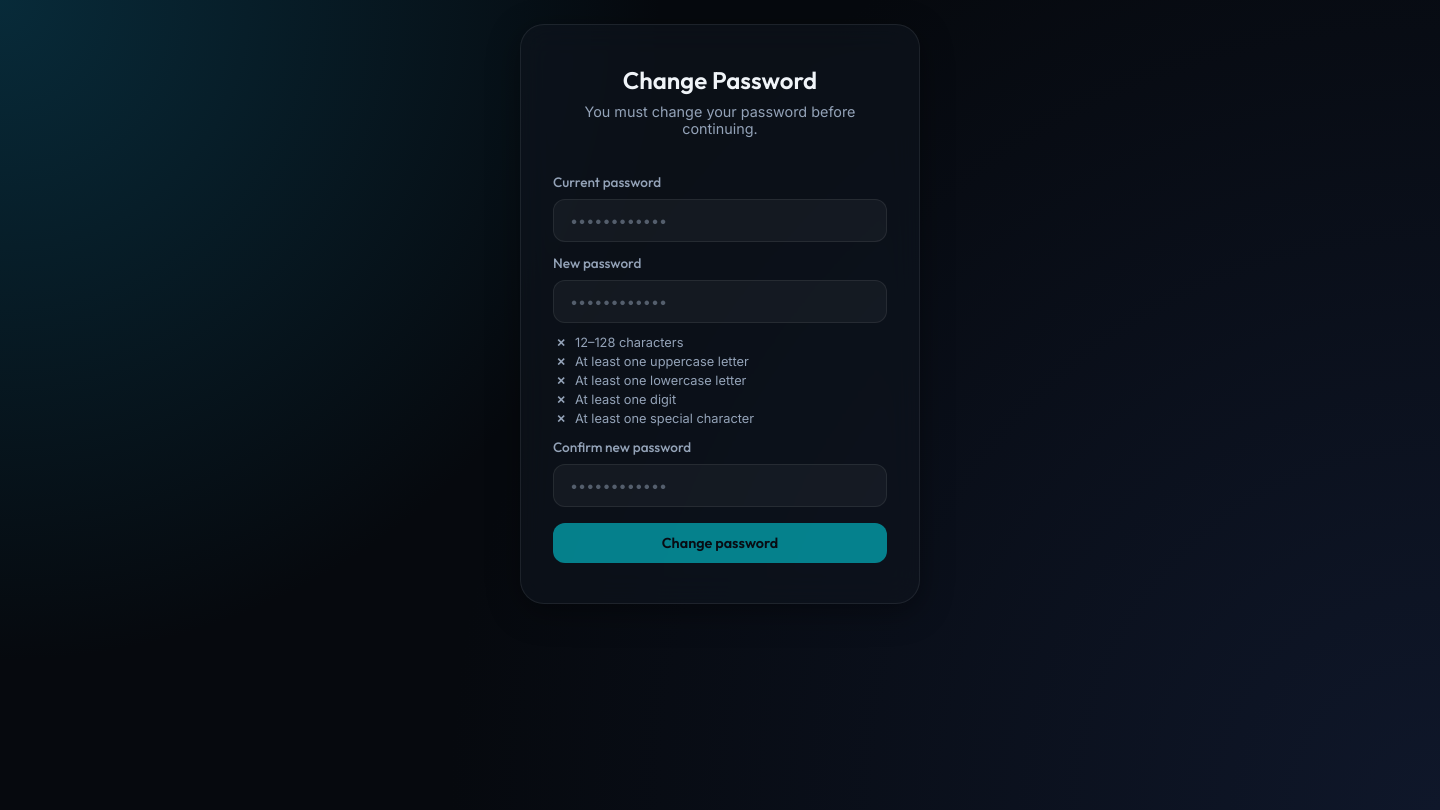
Scenario: PasswordChangePage › shows mismatch message when confirm password differs
Type "Abcdefghijk1!" into the password field labelled "New password".
click(720, 302); type("Abcdefghijk1!")  # box x1=553 y1=280 x2=887 y2=323
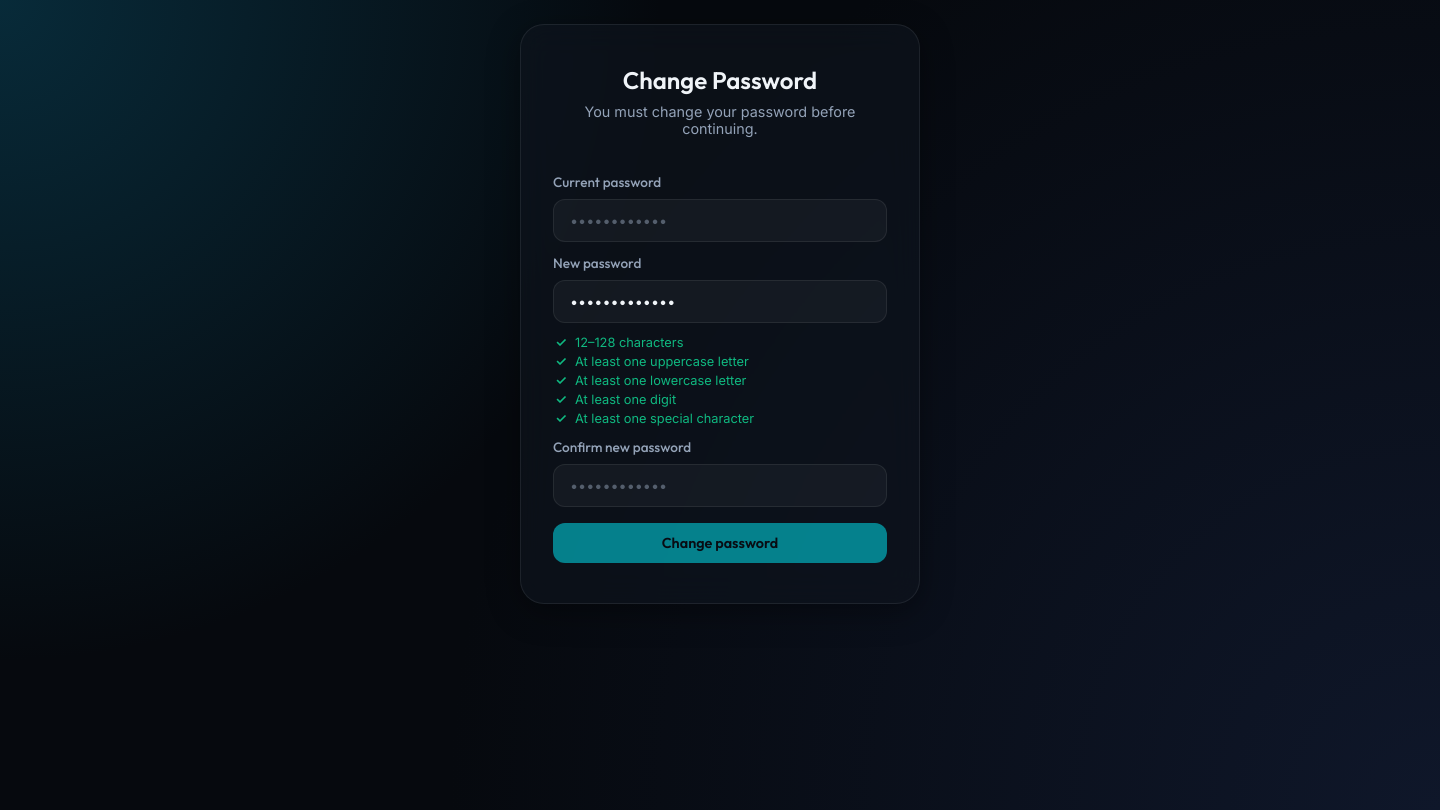
Type "different" into the password field labelled "Confirm new password".
click(720, 486); type("different")  # box x1=553 y1=464 x2=887 y2=507
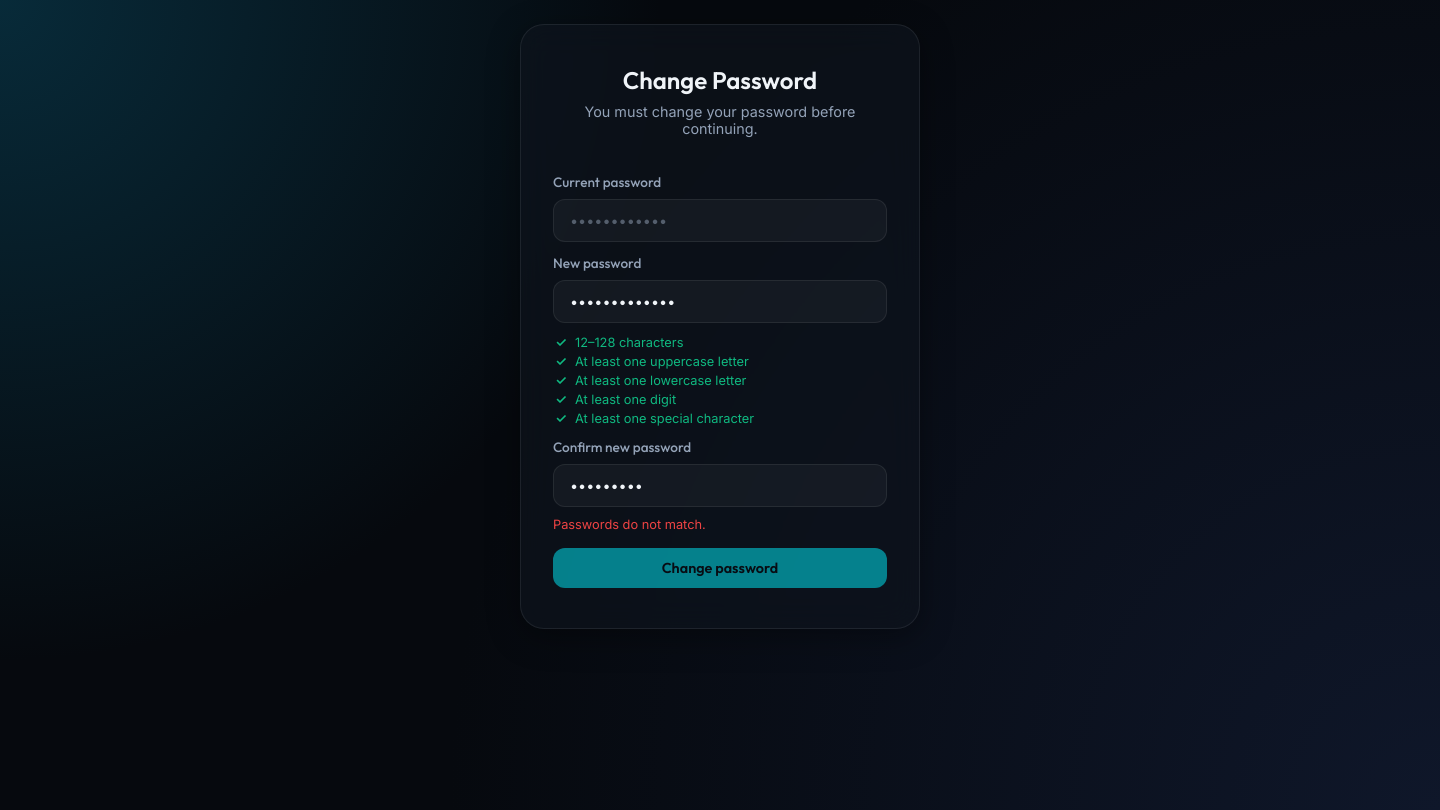
Now the text "Passwords do not match." is shown, box x1=553 y1=517 x2=706 y2=532
